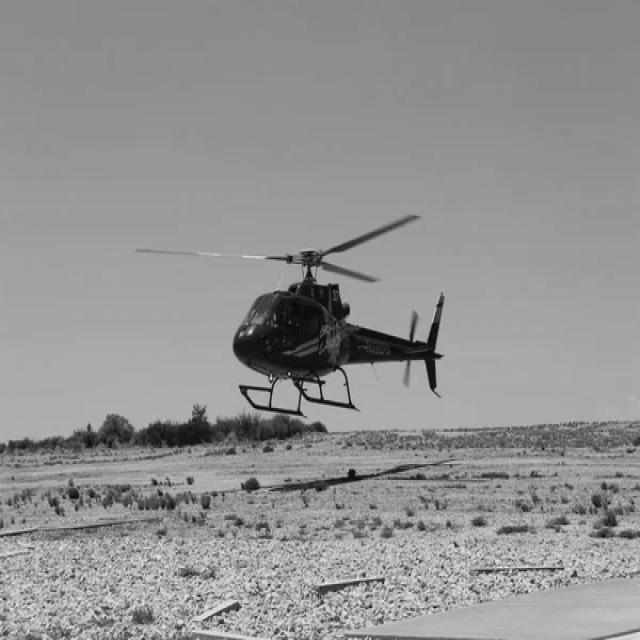Helicopter: (138, 214, 444, 417)
